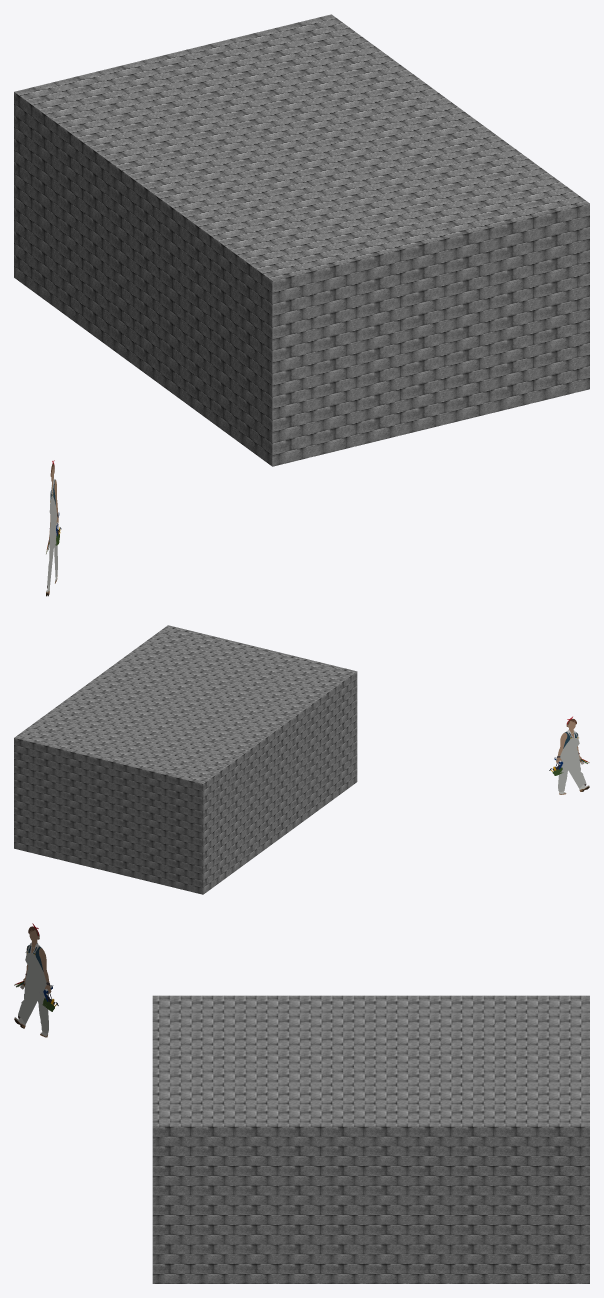
File: house.dae
3 views of the same model, one above another, from view 1: azimuth 30°, elevation 25°; view 2: azimuth 150°, elevation 25°; view 3: azimuth 270°, elevation 25° (orthographic). The views are drawn at different scales.
Parts seen in each view (by area): view 1: SketchUp; view 2: SketchUp, instance_0; view 3: SketchUp, instance_0.
Part boxes in pixels (<box>): SketchUp: <box>14,14,589,466</box>; SketchUp: <box>14,625,357,894</box>; instance_0: <box>558,737,586,791</box>; SketchUp: <box>152,995,589,1283</box>; instance_0: <box>18,952,48,1033</box>.
Bounding box in the file's own units: 339 × 319 × 96.12.
25 materials, 1 textured.
